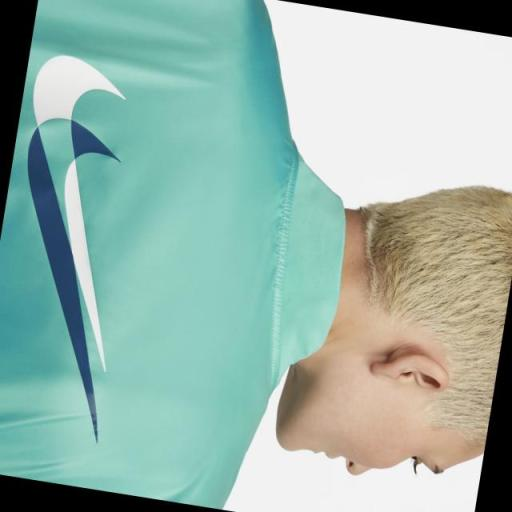Nike: (0, 107, 139, 446)
